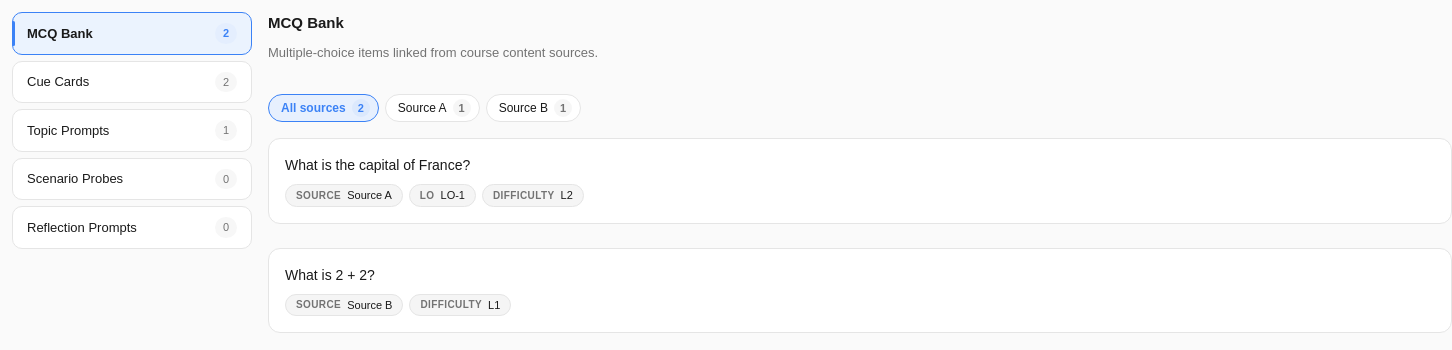
<CourseContentTab> — Content tab skeleton (#2204) › renders the no-data empty state when no items exist for the selected kind
Expected: the element with test id "hf-content-lh-picker" is shown, [12, 12, 252, 248]
Click the button with test id "hf-content-lh-row-scenarioProbes": (132, 179) [12, 158, 252, 200]
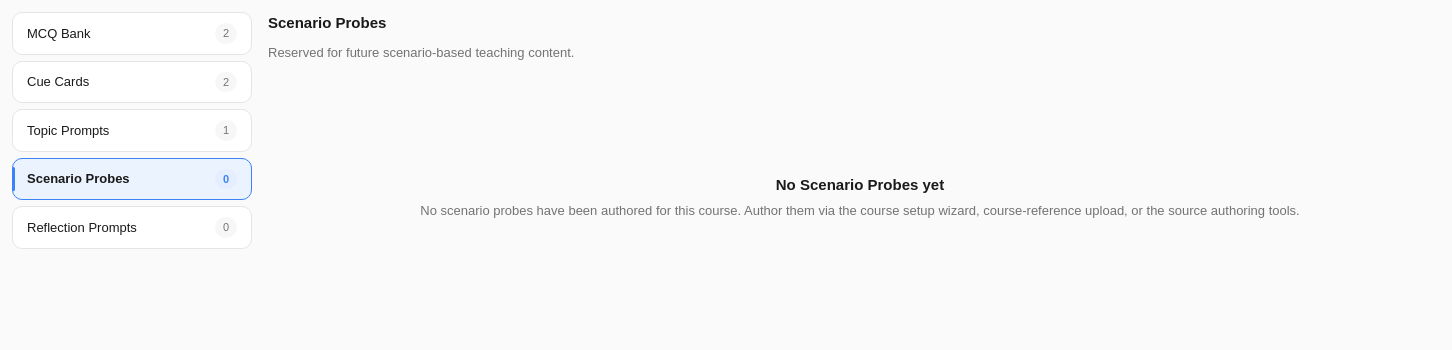
Now the element with test id "hf-content-empty-no-data" is shown, box [420, 176, 1300, 218]
